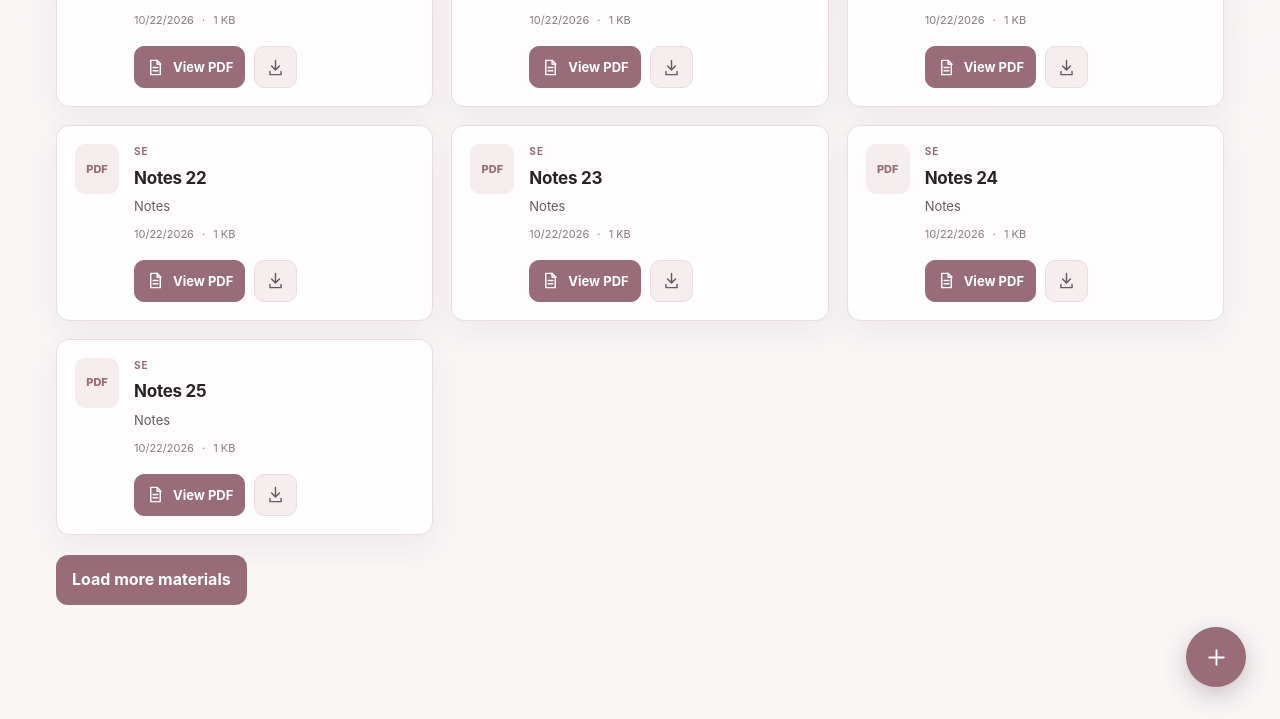
loads the 26th material and resets pagination when a new search is submitted
(page scrolled)
Click the button "Load more materials".
click(151, 580)  # box x1=56 y1=555 x2=247 y2=605
(page scrolled)
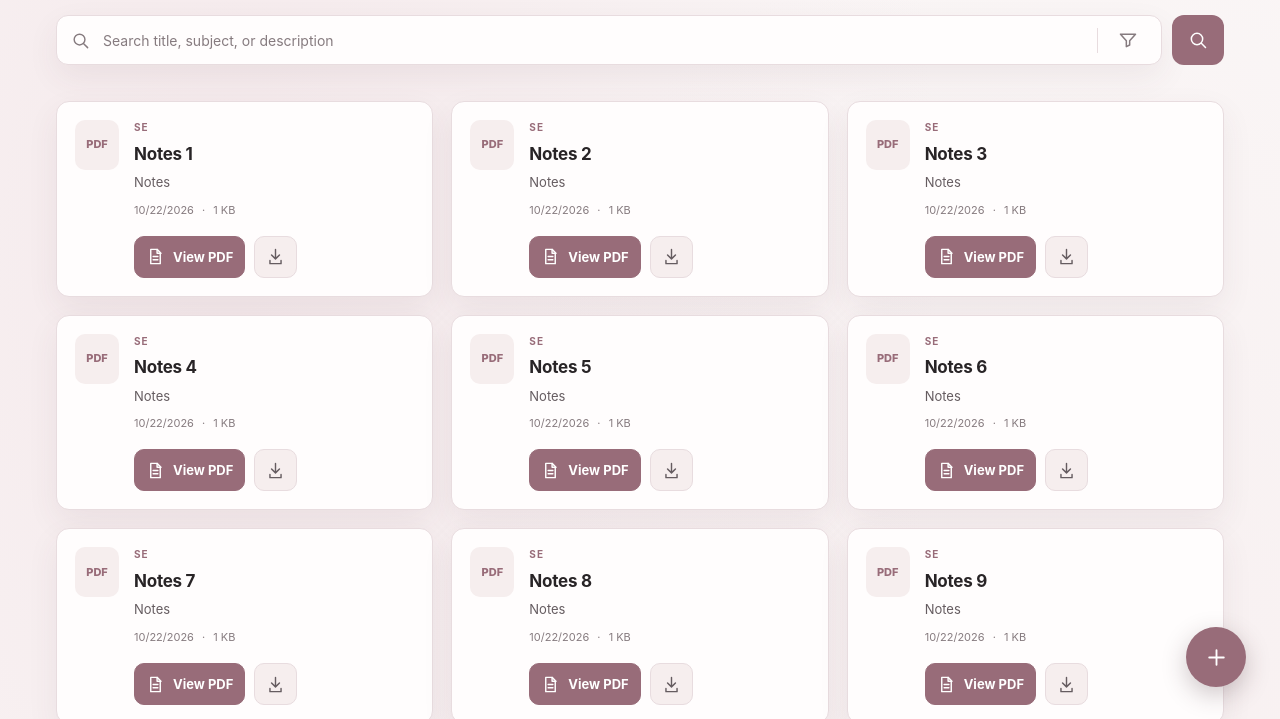
Check: the button "Load more materials" is gone
Type "Beta" into the field named "Search study materials".
click(594, 40); type("Beta")  # box x1=101 y1=17 x2=1086 y2=63
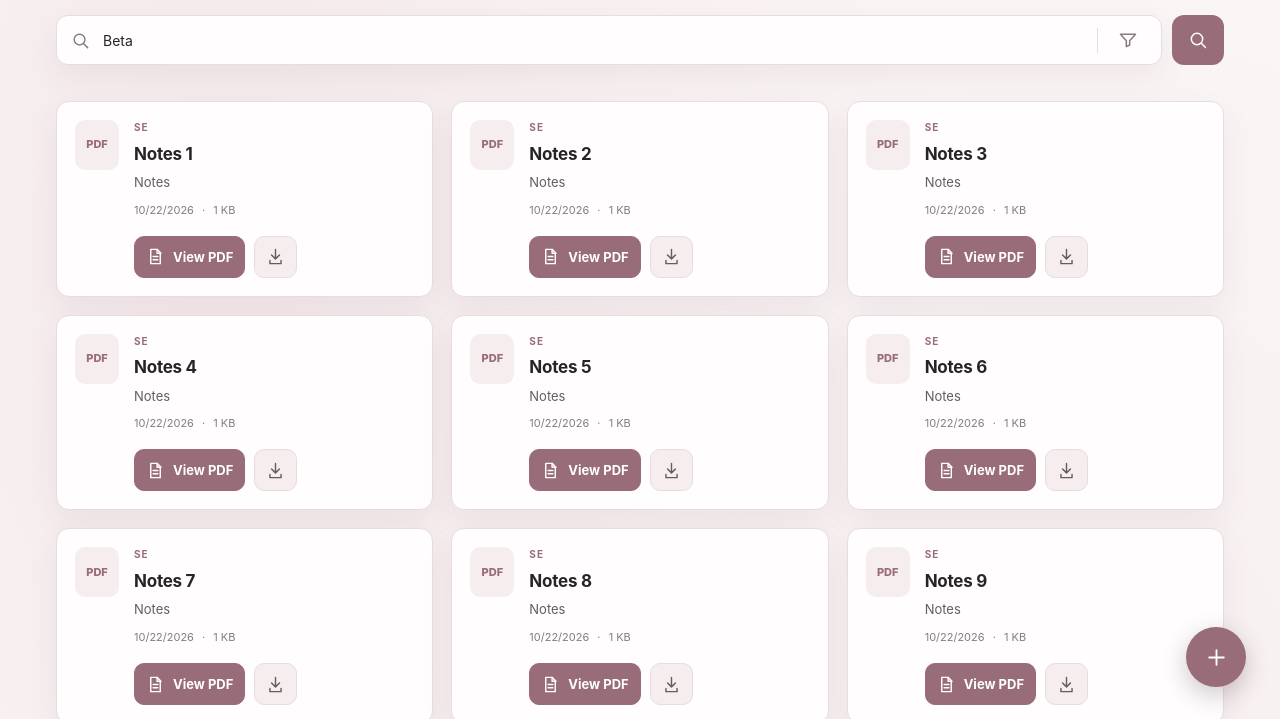
Submit the form named "Search", box x1=56 y1=15 x2=1224 y2=65
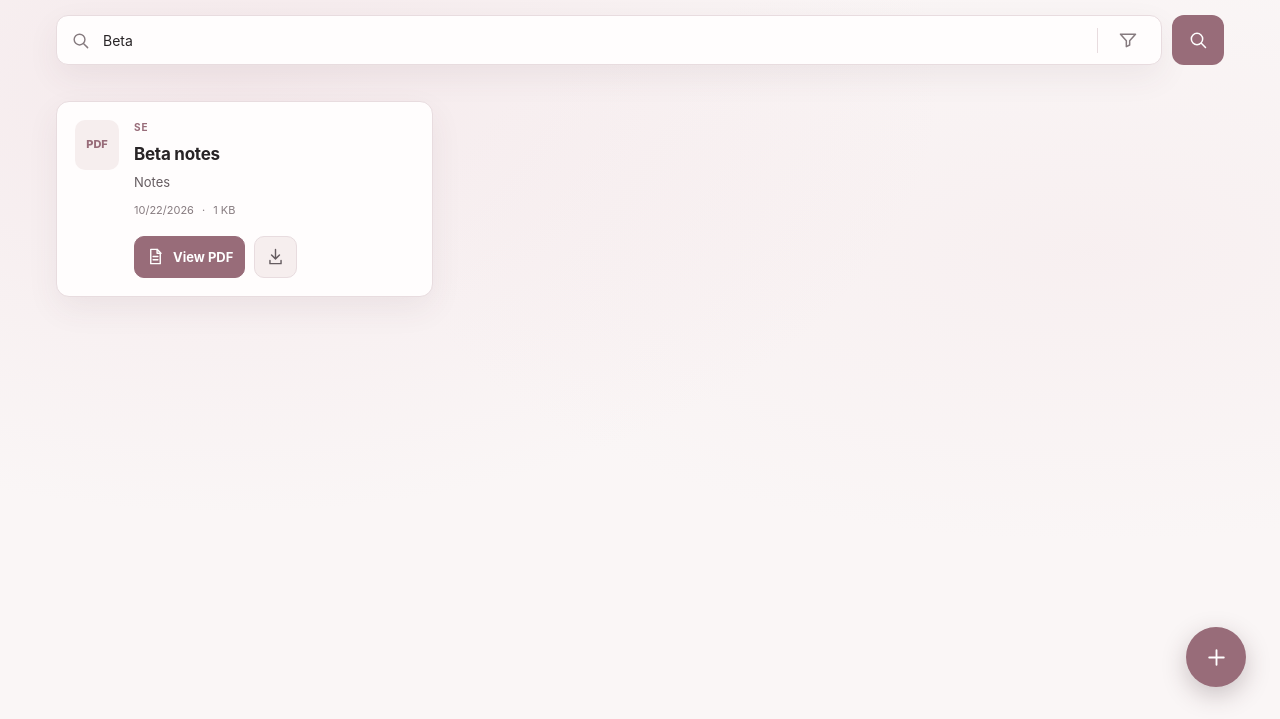
Check: the heading "Beta notes" is shown, box x1=134 y1=144 x2=220 y2=164
